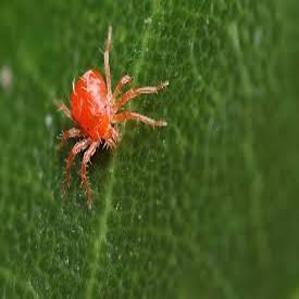spider mite: (28, 42, 168, 199)
